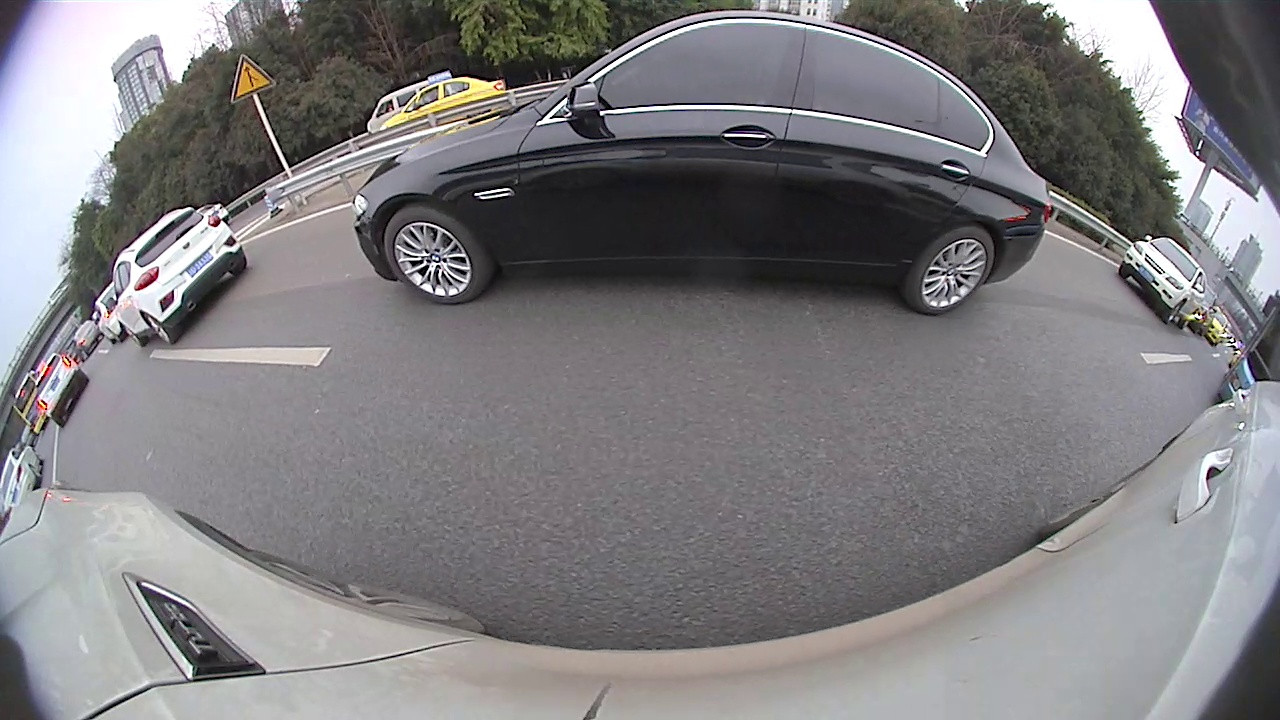car: (350, 6, 1054, 320), (112, 206, 248, 352), (1117, 235, 1210, 334), (378, 75, 510, 138), (364, 70, 459, 135), (30, 355, 90, 429), (93, 277, 127, 346)
front: (379, 204, 492, 306), (1163, 299, 1185, 325)
rear: (903, 223, 996, 317), (142, 311, 176, 346)
